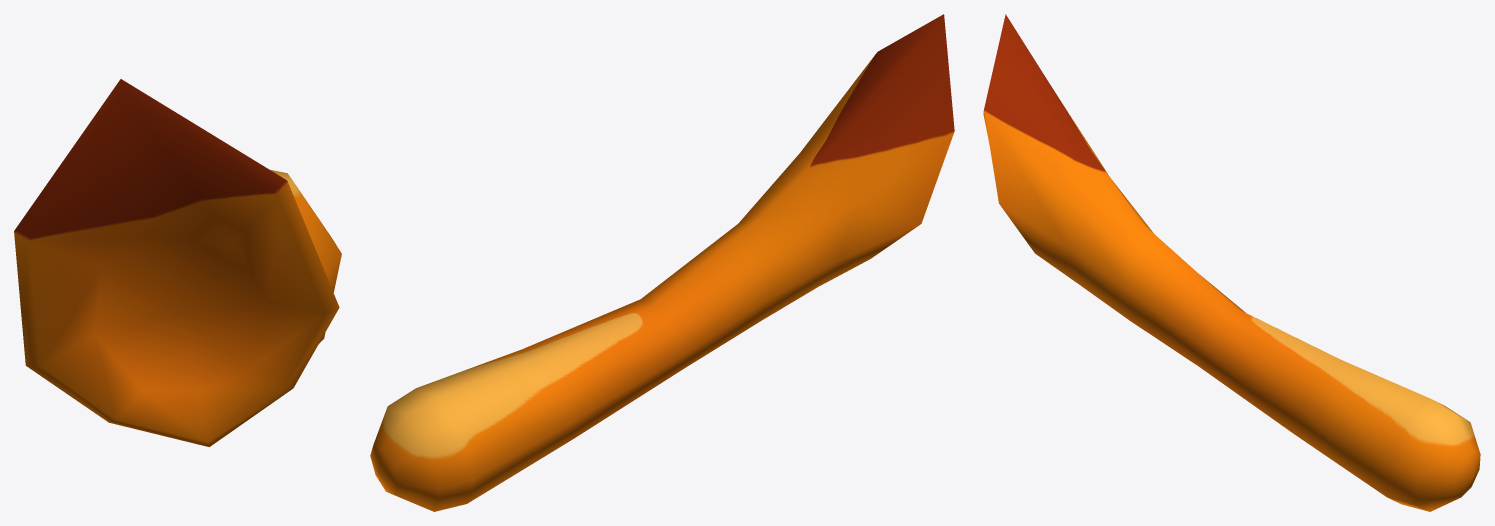
File: Spider_002_ULeg_003_R.fbx
3 renders of one model, left to right at view 1: azimuth 30°, elevation 25°; view 2: azimuth 150°, elevation 25°; view 3: azimuth 270°, elevation 25°, orthographic. The views are drawn at different scales.
Visible parts, largest first — view 1: UpperLeg_003_R; view 2: UpperLeg_003_R; view 3: UpperLeg_003_R.
Part boxes in pixels (box(x1,y1,x2,y2)): UpperLeg_003_R: box(14, 79, 341, 447); UpperLeg_003_R: box(370, 14, 954, 511); UpperLeg_003_R: box(983, 14, 1480, 511).
Bounding box in the file's own units: 15.96 × 16.1 × 19.97.
